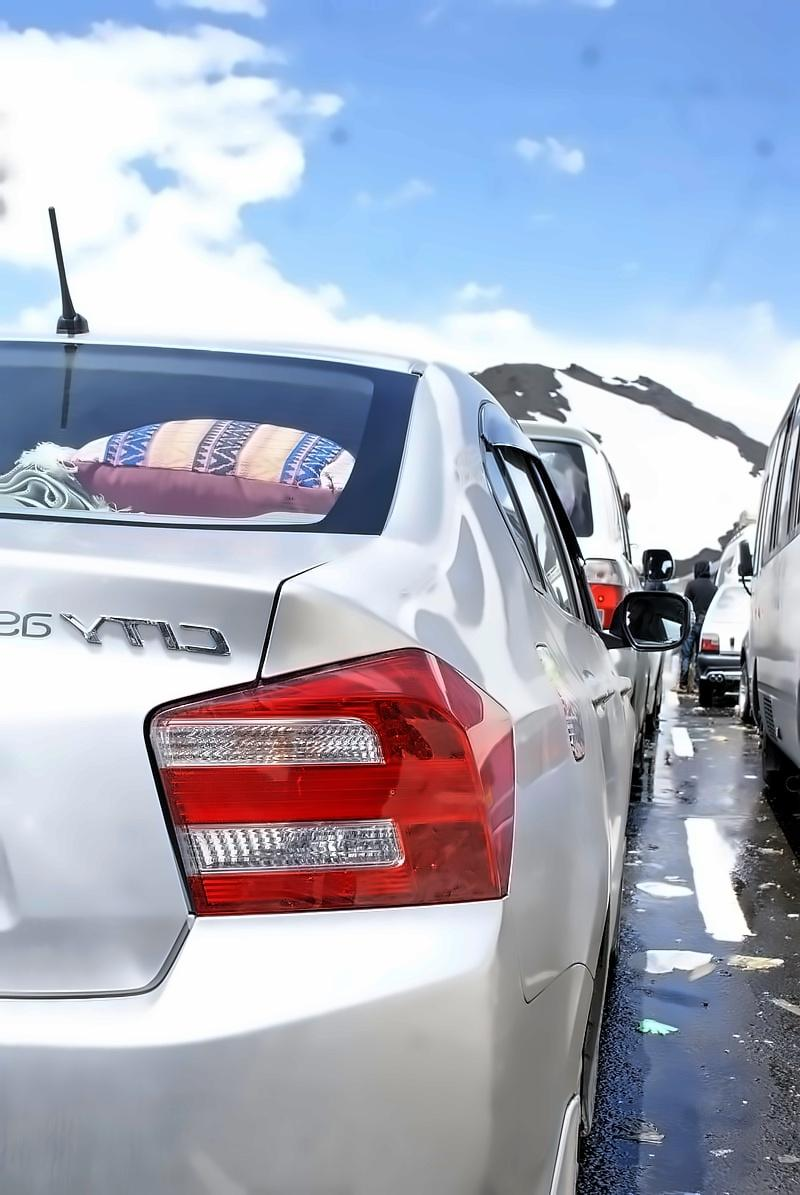Car boot: (0, 514, 357, 1008)
Rear bumper: (0, 862, 629, 1195)
Rear light - -R-: (142, 646, 524, 923)
Side mirror - -R-: (598, 576, 700, 665)
